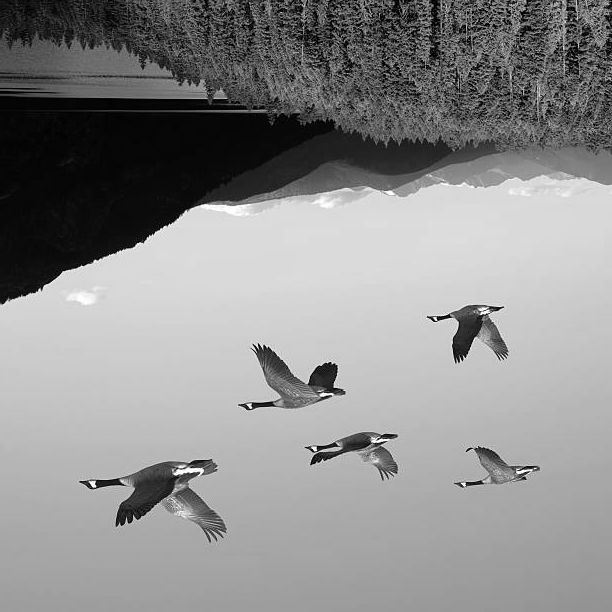Bird: (77, 454, 232, 546), (231, 333, 348, 415), (302, 429, 403, 485), (426, 302, 514, 365), (452, 442, 541, 491)
